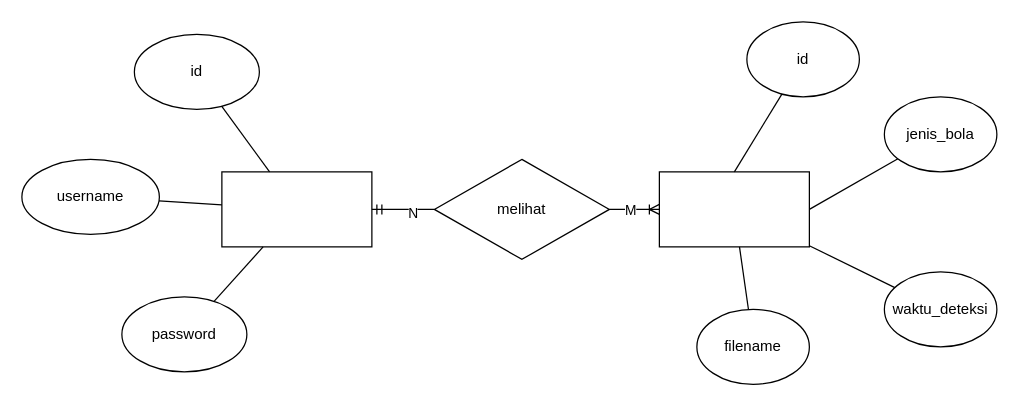
This 1019x406 diagram has some shape labels left out. The centre of each missing label's shape, as x and y in pixels:
Admin: the point at 296,209
Riwayat deteksi: the point at 733,209
